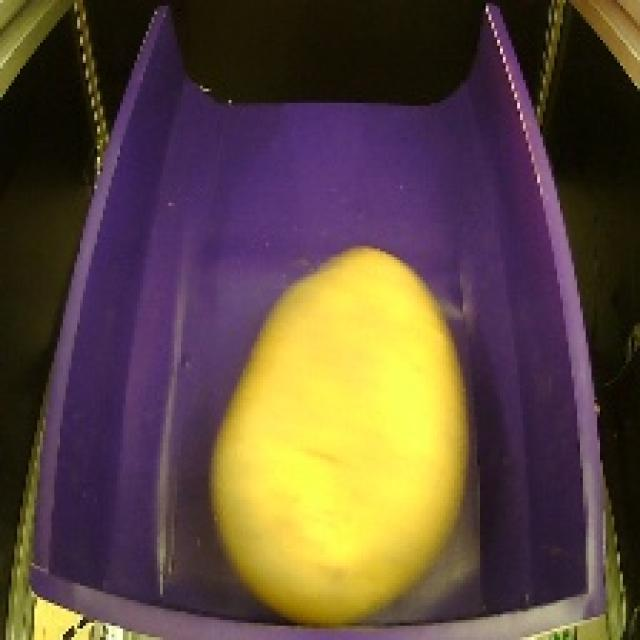full_potato: (189, 234, 481, 635)
